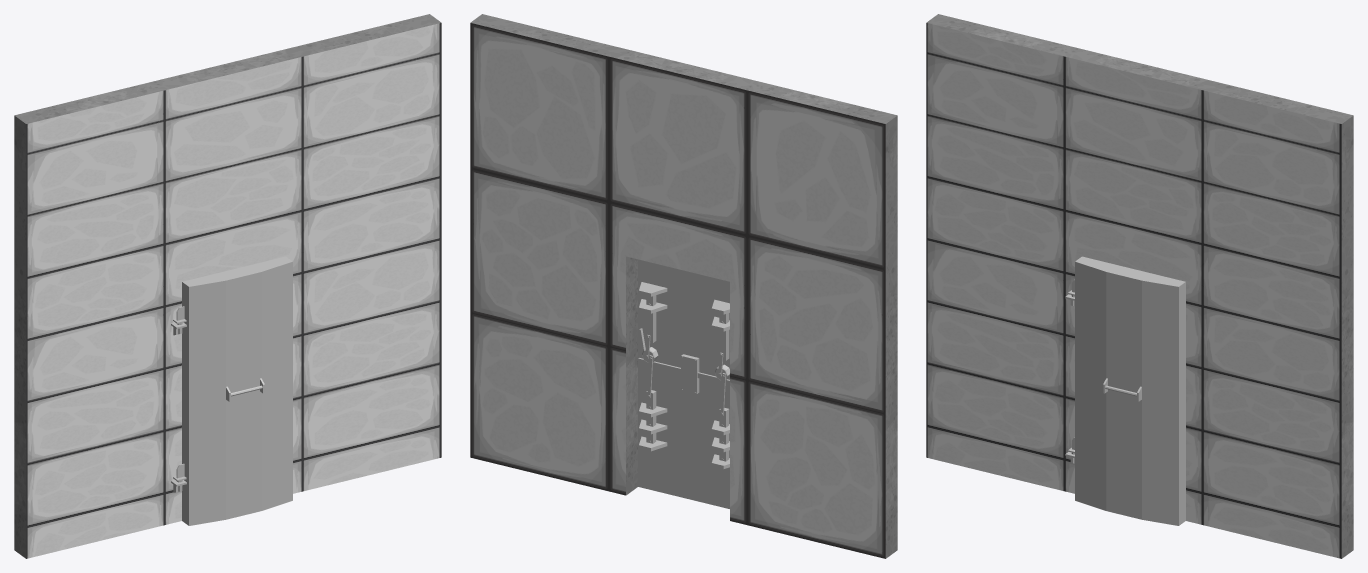
The model's file is SM_Heavy_Door_A.fbx.
3 views of the same model, side by side, from view 1: azimuth 30°, elevation 25°; view 2: azimuth 150°, elevation 25°; view 3: azimuth 330°, elevation 25° (orthographic).
Visible parts, largest first — view 1: SM_Heavy_Door_A, SM_Heavy_DoorA; view 2: SM_Heavy_Door_A, SM_Heavy_DoorA; view 3: SM_Heavy_Door_A, SM_Heavy_DoorA.
Boxes of the visible parts, left/top/right/bottom form: SM_Heavy_Door_A: left=14, top=14, right=441, bottom=558; SM_Heavy_DoorA: left=173, top=256, right=292, bottom=525; SM_Heavy_Door_A: left=470, top=14, right=897, bottom=558; SM_Heavy_DoorA: left=638, top=259, right=729, bottom=508; SM_Heavy_Door_A: left=926, top=14, right=1353, bottom=558; SM_Heavy_DoorA: left=1068, top=256, right=1185, bottom=525.
Size of the model in its own units: 400 by 400 by 41.86.
